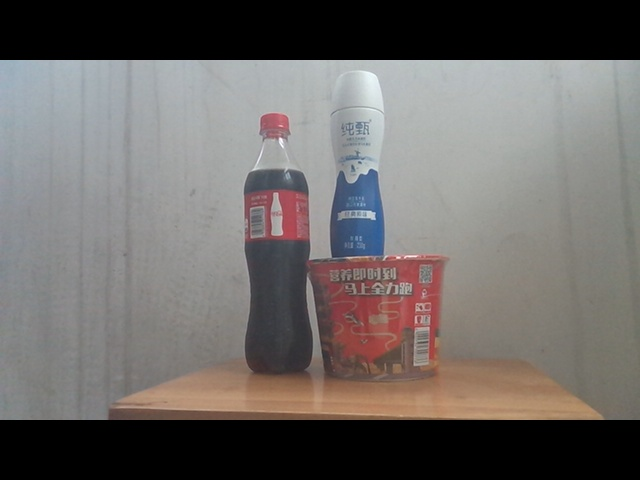cola: (243, 113, 314, 374)
kangshifu: (304, 254, 450, 382)
yogurt: (331, 70, 386, 257)
